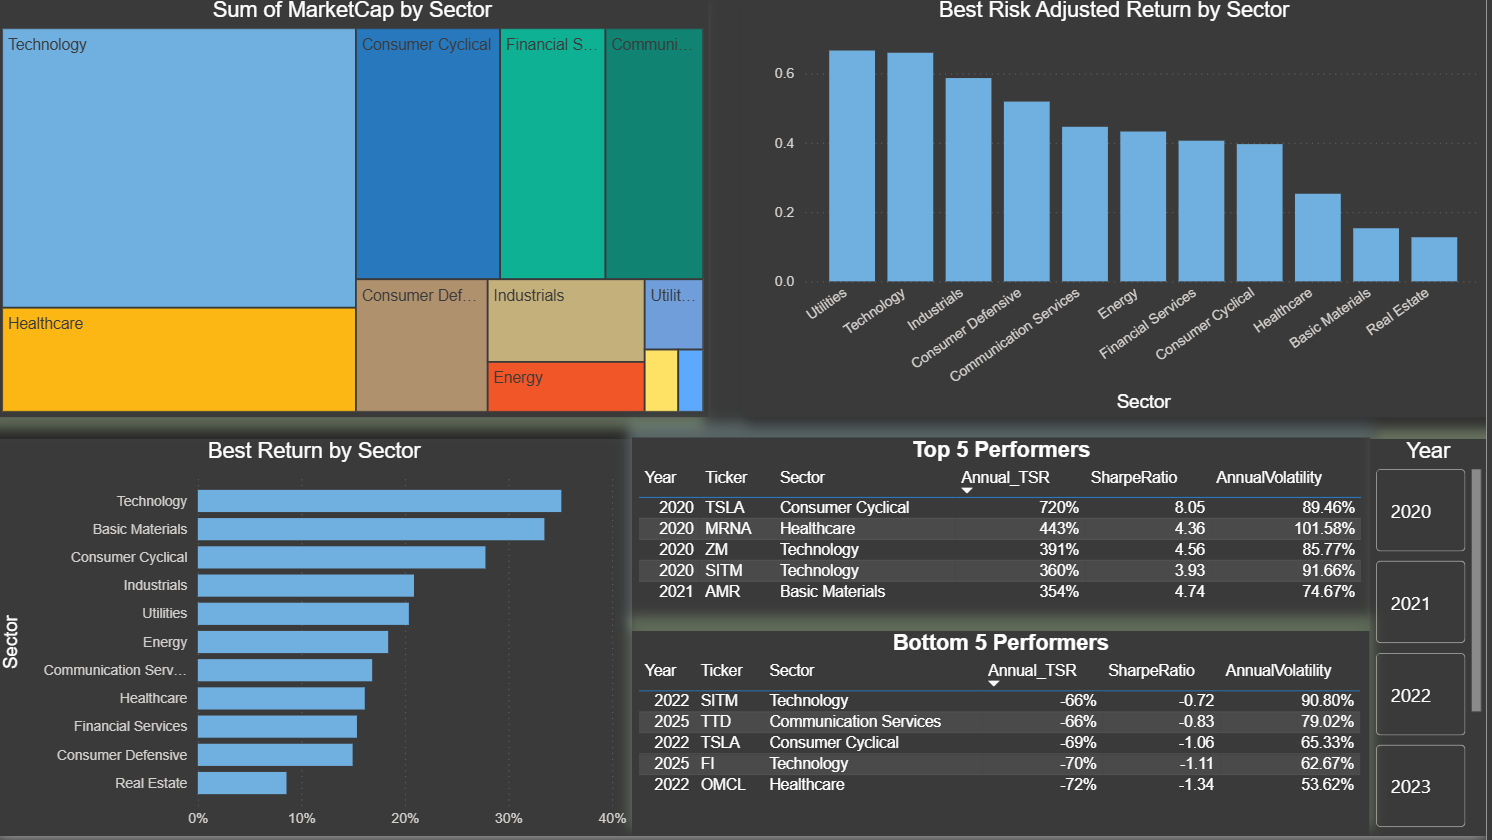

The page's visual inventory and layout, read from the dashboard file:
{"tool":"powerbi","page":{"name":"Sector And Industry","canvas":[1280,720],"ordinal":1},"visuals":[{"type":"clusteredBarChart","title":"Best Return by Sector","fields":{"Category":["stock_metrics_yearly.Sector"],"Y":["stock_metrics_yearly.AVERAGE TSR"]},"box":[0,378.3,546.7,341.7],"z":0},{"type":"treemap","fields":{"Group":["stock_metrics_yearly.Sector","stock_metrics_yearly.industry","stock_metrics_yearly.Ticker"],"Values":["Sum(stock_metrics_yearly.MarketCap)"]},"box":[0,0,612,360],"z":1000},{"type":"tableEx","title":"Top 5 Performers ","fields":{"Values":["stock_metrics_yearly.Year","stock_metrics_yearly.Ticker","stock_metrics_yearly.Sector","stock_metrics_yearly.Annual_TSR","stock_metrics_yearly.SharpeRatio","stock_metrics_yearly.AnnualVolatility"]},"box":[546,378,634,172],"z":2000},{"type":"advancedSlicerVisual","fields":{"Values":["stock_metrics_yearly.Year"]},"box":[1180,378.3,100,341.7],"z":3000},{"type":"columnChart","title":"Best Risk Adjusted Return by Sector","fields":{"Category":["stock_metrics_yearly.Sector"],"Y":["Median(stock_metrics_yearly.SharpeRatio)"]},"box":[640,0,640,360],"z":4000},{"type":"tableEx","title":"Bottom 5 Performers ","fields":{"Values":["stock_metrics_yearly.Year","stock_metrics_yearly.Ticker","stock_metrics_yearly.Sector","stock_metrics_yearly.Annual_TSR","stock_metrics_yearly.SharpeRatio","stock_metrics_yearly.AnnualVolatility"]},"box":[546.7,543.3,633.3,176.7],"z":5000}]}

Visuals, with their boxes in screenshot pixels (x1, y1, x2, y2), scaled from the page's 1280x720 canvas onto the 1492x840 screenshot:
"Best Return by Sector" clusteredBarChart: Rect(0, 441, 637, 839)
treemap - stock_metrics_yearly.Sector x stock_metrics_yearly.industry: Rect(0, 0, 713, 420)
"Top 5 Performers " tableEx: Rect(636, 441, 1375, 642)
advancedSlicerVisual - stock_metrics_yearly.Year: Rect(1375, 441, 1491, 839)
"Best Risk Adjusted Return by Sector" columnChart: Rect(746, 0, 1491, 420)
"Bottom 5 Performers " tableEx: Rect(637, 634, 1375, 839)
